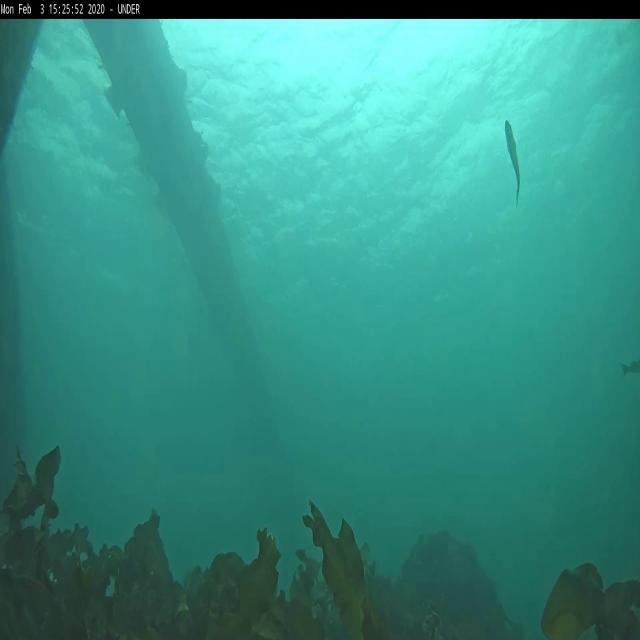fish: (503, 116, 521, 208), (619, 358, 640, 380)
